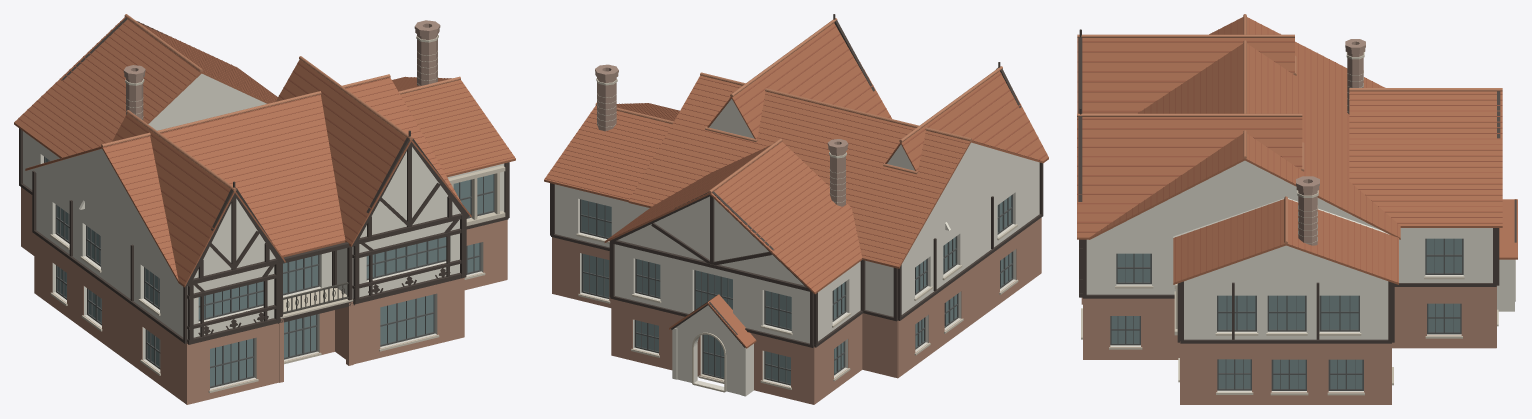
The model's file is changning-luobiegen-garden-villa-raw.glb.
The picture shows the model from 3 angles, left to right: view 1: azimuth 30°, elevation 25°; view 2: azimuth 150°, elevation 25°; view 3: azimuth 270°, elevation 25°; orthographic projection. The views are drawn at different scales.
Parts seen in each view (by area): view 1: 罗别根花园主宅（南向双山墙与露木构阳台）; view 2: 罗别根花园主宅（南向双山墙与露木构阳台）; view 3: 罗别根花园主宅（南向双山墙与露木构阳台）.
Part boxes in pixels (x1=…): 罗别根花园主宅（南向双山墙与露木构阳台）: x1=14, y1=14, x2=515, y2=404; 罗别根花园主宅（南向双山墙与露木构阳台）: x1=544, y1=14, x2=1048, y2=404; 罗别根花园主宅（南向双山墙与露木构阳台）: x1=1077, y1=14, x2=1517, y2=404.
Size of the model in its own units: 20.87 by 11.67 by 20.75.
